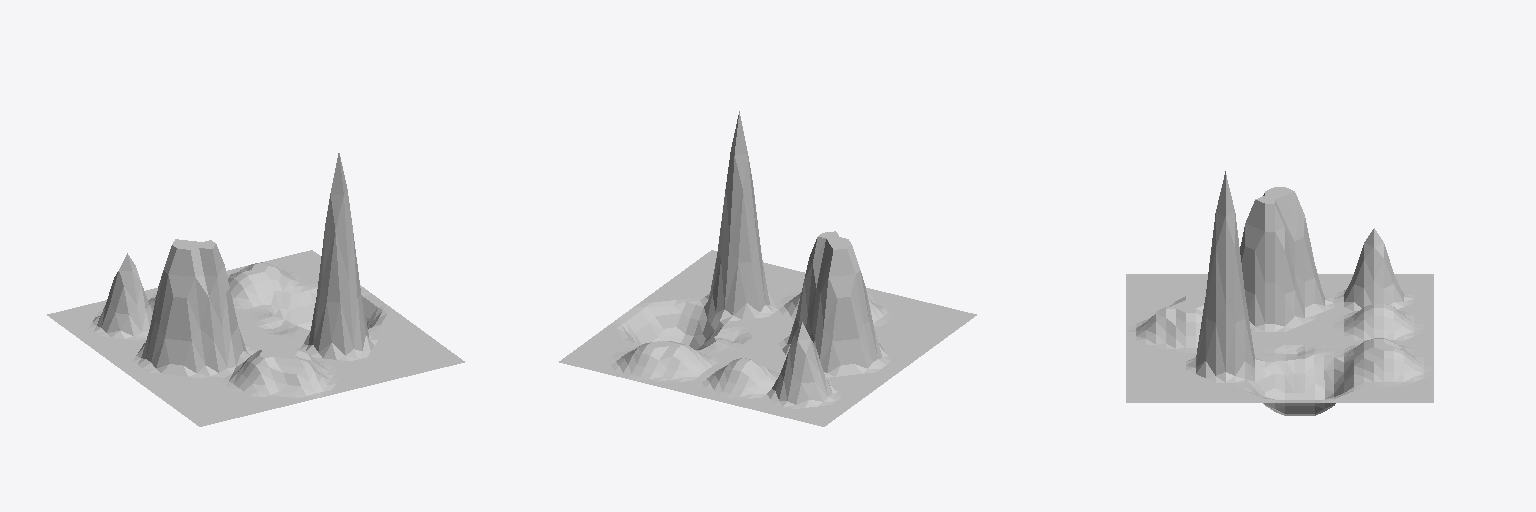
File: terrain.obj
3 renders of one model, left to right at view 1: azimuth 30°, elevation 25°; view 2: azimuth 150°, elevation 25°; view 3: azimuth 270°, elevation 25°, orthographic.
Visible parts, largest first — view 1: Plane; view 2: Plane; view 3: Plane.
Boxes of the visible parts, x1,y1,x2,y2 form: Plane: [47, 153, 464, 426]; Plane: [559, 111, 976, 426]; Plane: [1126, 171, 1433, 415].
Size of the model in its own units: 85.5 by 68.75 by 85.5.